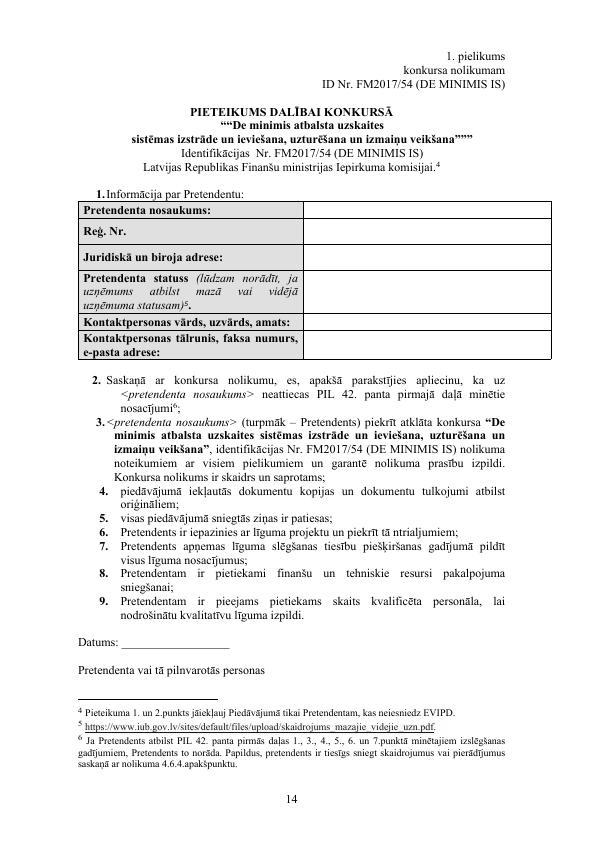input: (117, 633, 236, 652), (75, 687, 224, 702)
table: (75, 199, 557, 366)
text: (88, 374, 511, 626), (66, 707, 515, 777), (124, 102, 484, 178), (317, 43, 512, 92), (73, 660, 271, 679), (93, 186, 249, 198), (73, 635, 118, 650)
